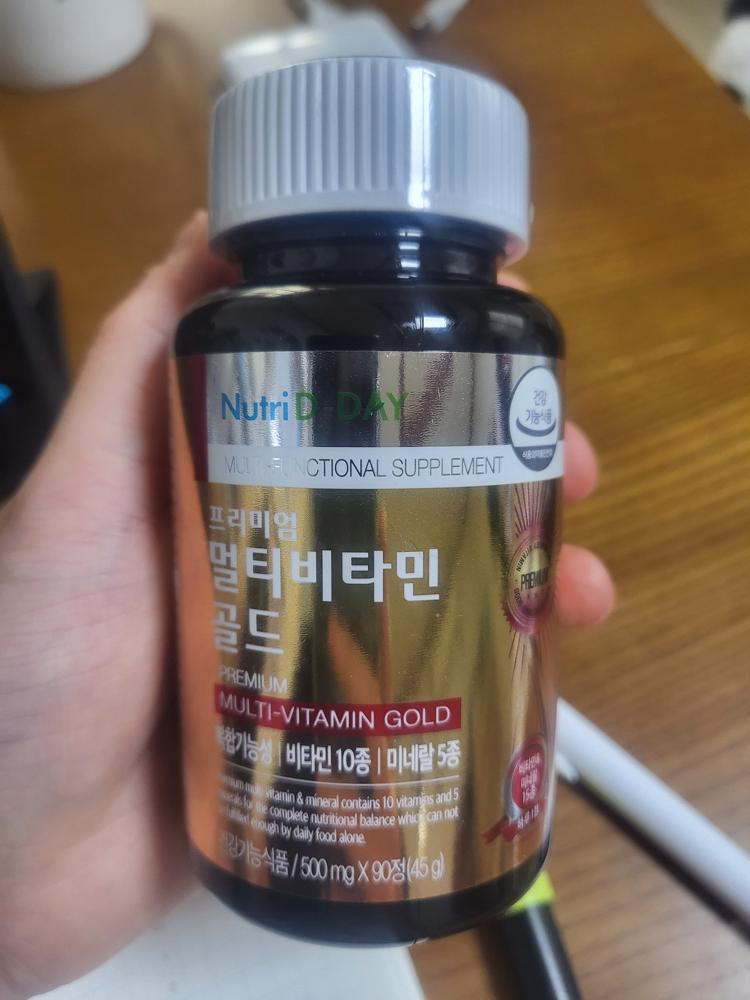supplement_label: (149, 344, 578, 911)
